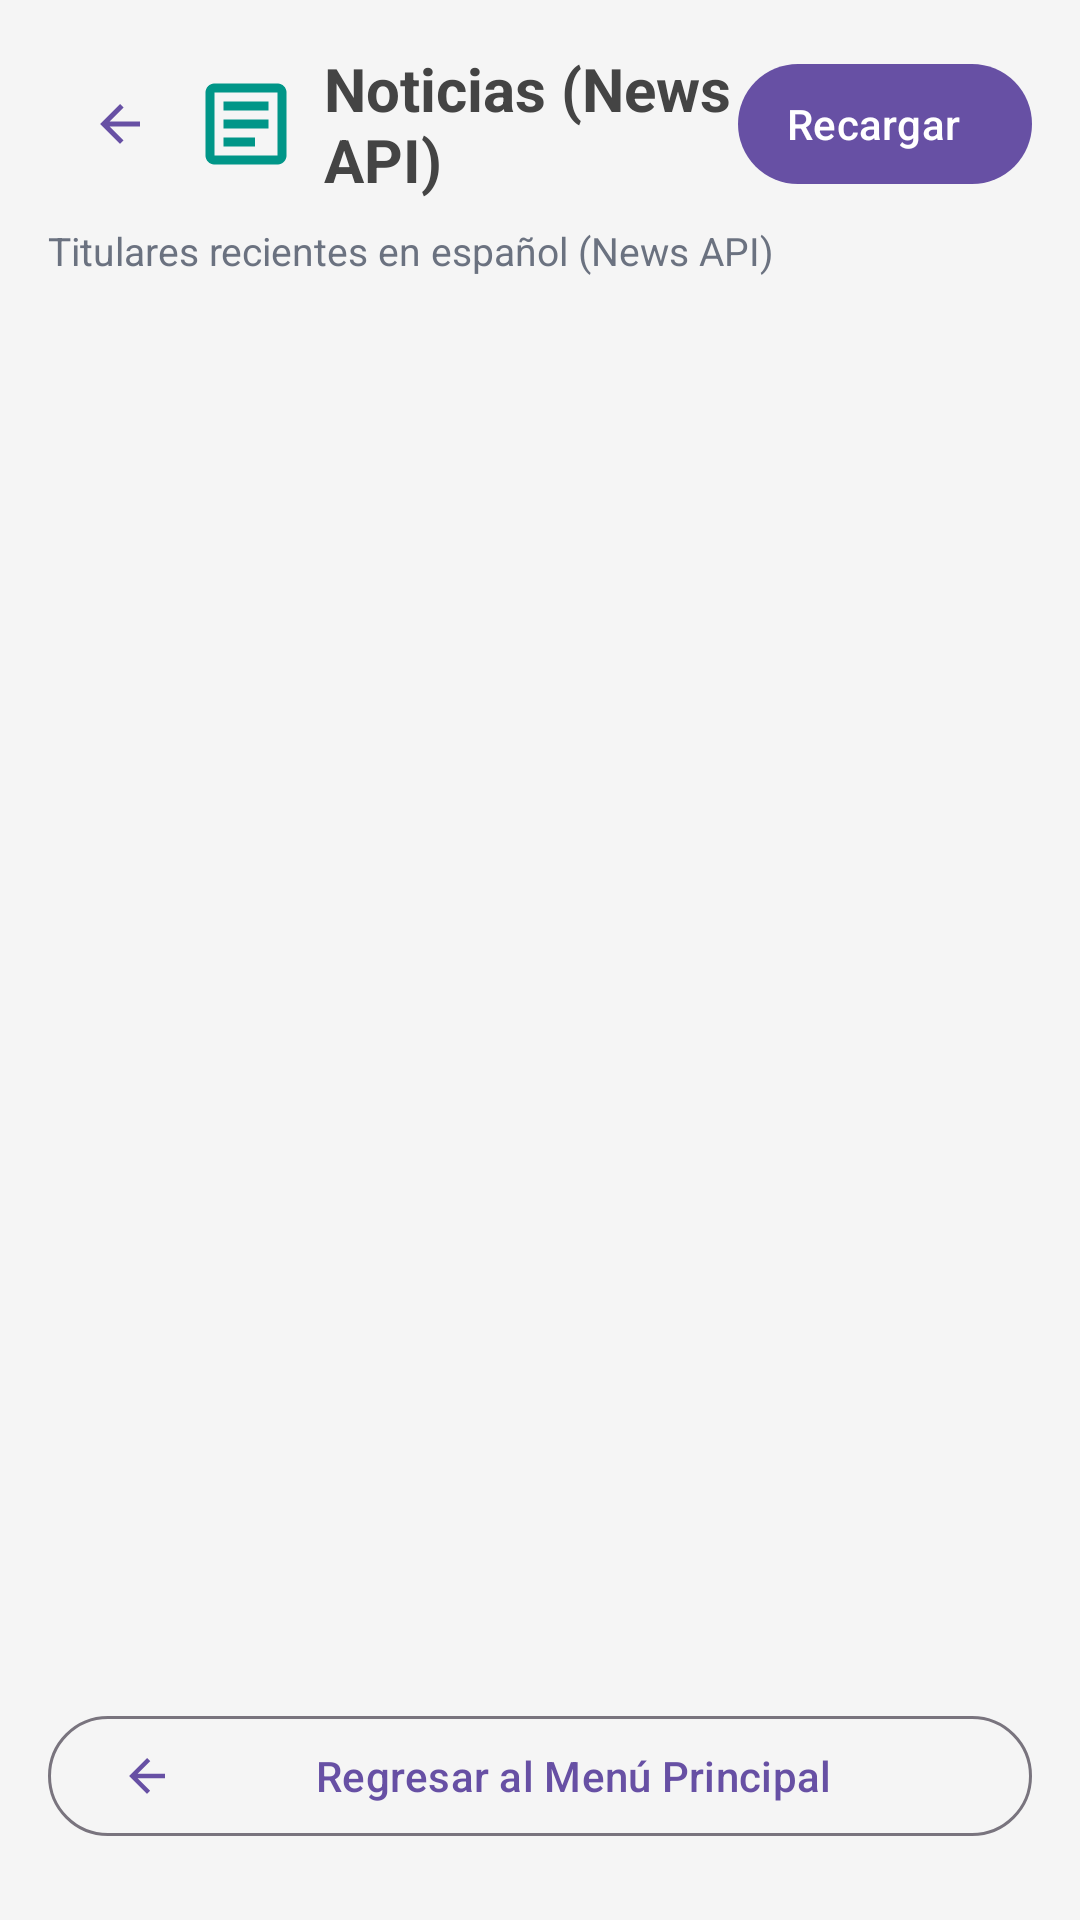

Named icons in this screenshot (1080 x 1920) and their bounding boxes, [x1, y1, x2, y2]:
Icono noticias: [205, 83, 287, 165]
Volver al menú principal: [100, 104, 140, 144]
